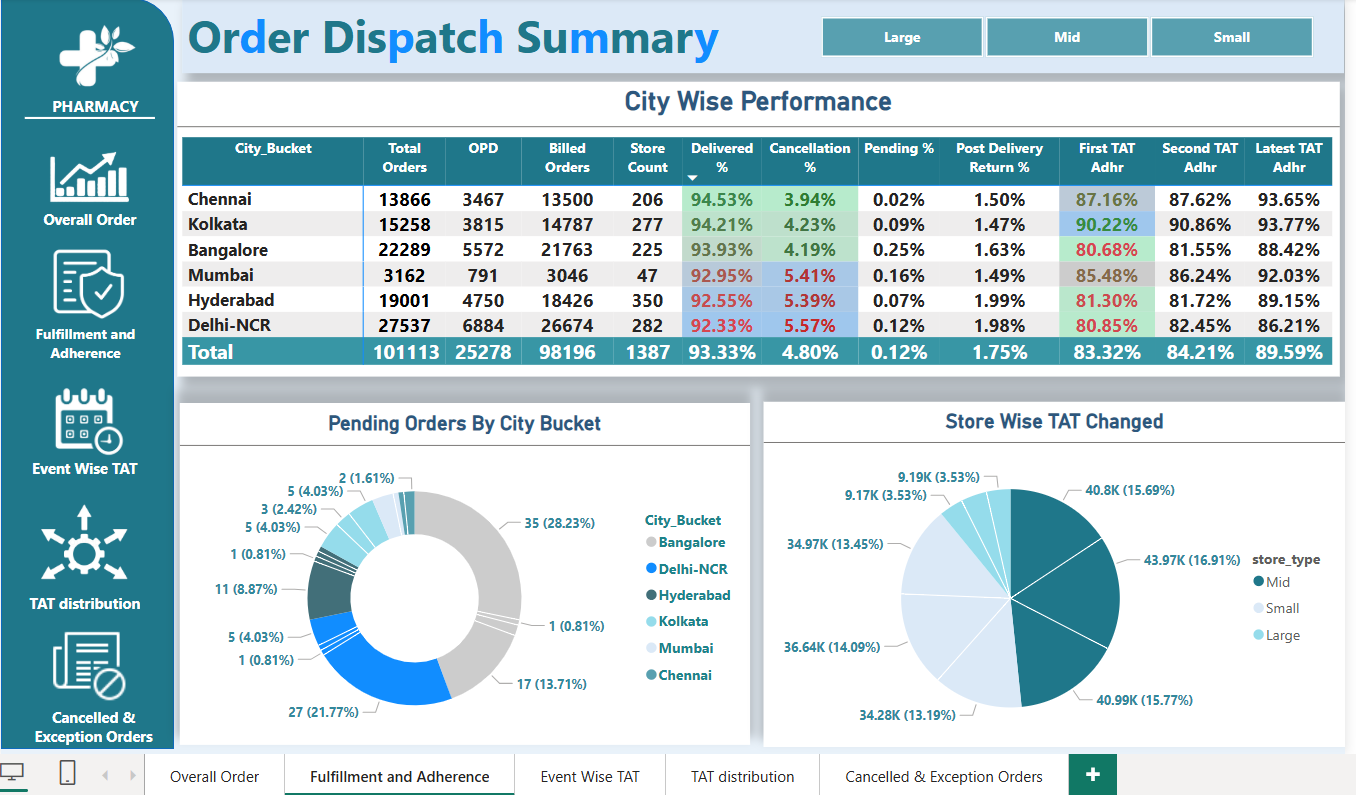

The page's visual inventory and layout, read from the dashboard file:
{"tool":"powerbi","page":{"name":"Fulfillment and Adherence","canvas":[1280,720],"ordinal":1},"visuals":[{"type":"shape","box":[0,0,164.8,715.5],"z":0},{"type":"textbox","box":[172.1,1.2,1106.4,70.2],"z":1000},{"type":"slicer","fields":{"Values":["Sheet1.store_type"]},"box":[754.8,10.7,519.1,52.4],"z":2000},{"type":"image","box":[20,127.9,128.6,86.9],"z":3000},{"type":"image","box":[25.2,360.2,114.3,89.3],"z":4000},{"type":"image","box":[31,467.9,96.9,100],"z":5000},{"type":"image","box":[35,596.4,98.8,78.6],"z":6000},{"type":"image","box":[45.2,229.8,77.4,85.7],"z":7000},{"type":"actionButton","box":[15,117.9,135,109.5],"z":8000},{"type":"textbox","box":[31,196.4,110.7,30.2],"z":9000},{"type":"textbox","box":[1.2,305.5,158.3,48.1],"z":10000},{"type":"actionButton","box":[29.3,223.8,110.7,128.6],"z":11000},{"type":"actionButton","box":[11.9,358.8,140.5,106.7],"z":12000},{"type":"textbox","box":[19,433.3,125,33.6],"z":13000},{"type":"textbox","box":[17.9,562.4,123.8,28.6],"z":14000},{"type":"actionButton","box":[13.1,469.1,134.5,128.6],"z":15000},{"type":"textbox","box":[16.7,670.2,142.9,48.8],"z":16000},{"type":"actionButton","box":[9.5,601.4,148.8,118.8],"z":17000},{"type":"shape","box":[22.1,97.6,124.3,33.3],"z":18000},{"type":"pivotTable","title":"City Wise Performance","fields":{"Values":["CountNonNull(Sheet1.orderid)","Sheet1.Avg_Orders_Per_Day","CountNonNull(Sheet1.billed)","Count(Sheet1.SHOPID)","Sheet1.delivered%","Sheet1.Cancelled%","Sheet1.Pending%","Sheet1.post_delivery_return%","Sheet1.FTA%","Sheet1.STA%","Sheet1.LTA%"],"Rows":["Sheet1.City_Bucket"]},"box":[167.9,79.8,1107.1,281],"z":19000},{"type":"donutChart","title":"Pending Orders By City Bucket","fields":{"Y":["Sum(Sheet1.postShip_Pending)","Sum(Sheet1.pre_store_pending)","Sum(Sheet1.prebill)","Sum(Sheet1.Pending_Attempted)","Sum(Sheet1.Pending_post_billing_1)"],"Category":["Sheet1.City_Bucket"]},"box":[170.2,386,542.9,326],"z":20000},{"type":"pieChart","title":"Store Wise TAT Changed","fields":{"Category":["Sheet1.store_type"],"Y":["Sum(Sheet1.First_SLA_Adherence)","Sum(Sheet1.latest_SLA_Adherence)","Sum(Sheet1.Second_SLA_Adherence)"]},"box":[726.2,384,553.6,311.2],"z":21000},{"type":"image","box":[20.2,3.6,145.2,98.8],"z":22000},{"type":"textbox","box":[0,88.3,179.8,32.1],"z":23000}]}

Visuals, with their boxes on the page's 1280x720 design canvas (x1, y1, x2, y2). These are canvas units, not pixel positions in the 1356x795 screenshot, which may show the page scaled, cropped or inside an application window:
shape: crop(0, 0, 165, 716)
textbox: crop(172, 1, 1278, 71)
slicer - Sheet1.store_type: crop(755, 11, 1274, 63)
image: crop(20, 128, 149, 215)
image: crop(25, 360, 140, 450)
image: crop(31, 468, 128, 568)
image: crop(35, 596, 134, 675)
image: crop(45, 230, 123, 316)
actionButton: crop(15, 118, 150, 227)
textbox: crop(31, 196, 142, 227)
textbox: crop(1, 306, 160, 354)
actionButton: crop(29, 224, 140, 352)
actionButton: crop(12, 359, 152, 466)
textbox: crop(19, 433, 144, 467)
textbox: crop(18, 562, 142, 591)
actionButton: crop(13, 469, 148, 598)
textbox: crop(17, 670, 160, 719)
actionButton: crop(10, 601, 158, 720)
shape: crop(22, 98, 146, 131)
"City Wise Performance" pivotTable: crop(168, 80, 1275, 361)
"Pending Orders By City Bucket" donutChart: crop(170, 386, 713, 712)
"Store Wise TAT Changed" pieChart: crop(726, 384, 1280, 695)
image: crop(20, 4, 165, 102)
textbox: crop(0, 88, 180, 120)
